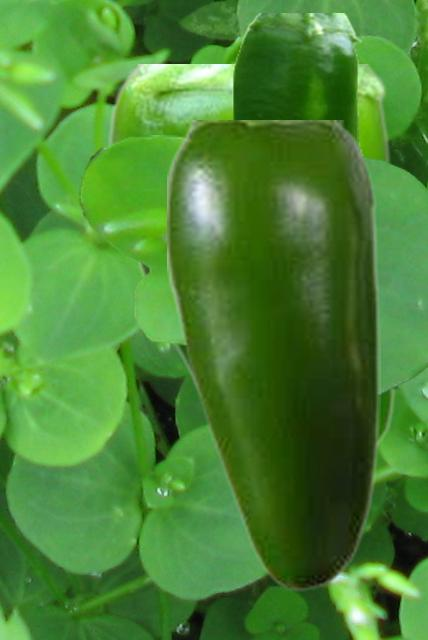green_chili: (106, 64, 395, 445), (167, 120, 379, 591), (232, 13, 365, 155)
